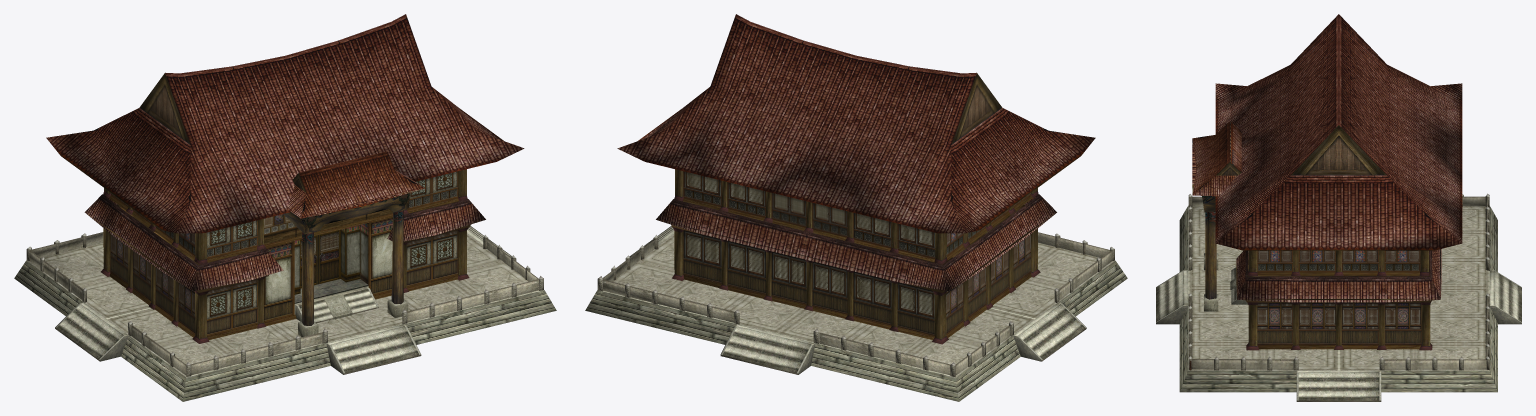
The model's file is a1-010-bank_lod_01.fbx.
3 views of the same model, side by side, from view 1: azimuth 30°, elevation 25°; view 2: azimuth 150°, elevation 25°; view 3: azimuth 270°, elevation 25° (orthographic). The views are drawn at different scales.
Visible parts, largest first — view 1: a1-010-bank-01, a1-010-bank-03, a1-010-bank-02, a1-010-bank-04; view 2: a1-010-bank-01, a1-010-bank-03, a1-010-bank-02, a1-010-bank-04; view 3: a1-010-bank-01, a1-010-bank-03, a1-010-bank-02, a1-010-bank-04.
Boxes of the visible parts, x1,y1,x2,y2 form: a1-010-bank-01: (46,14,524,343); a1-010-bank-03: (14,151,556,401); a1-010-bank-02: (26,171,543,376); a1-010-bank-04: (84,189,485,321); a1-010-bank-01: (617,14,1095,344); a1-010-bank-03: (585,195,1127,401); a1-010-bank-02: (597,171,1114,377); a1-010-bank-04: (656,194,1056,291); a1-010-bank-01: (1189,14,1462,370); a1-010-bank-03: (1156,121,1521,401); a1-010-bank-02: (1188,193,1489,370); a1-010-bank-04: (1192,139,1441,302).
Size of the model in its own units: 24.99 by 14.43 by 20.19.
